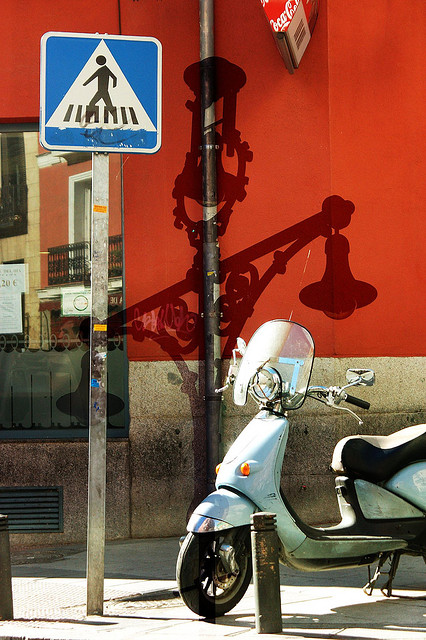Bike: (189, 315, 423, 612)
